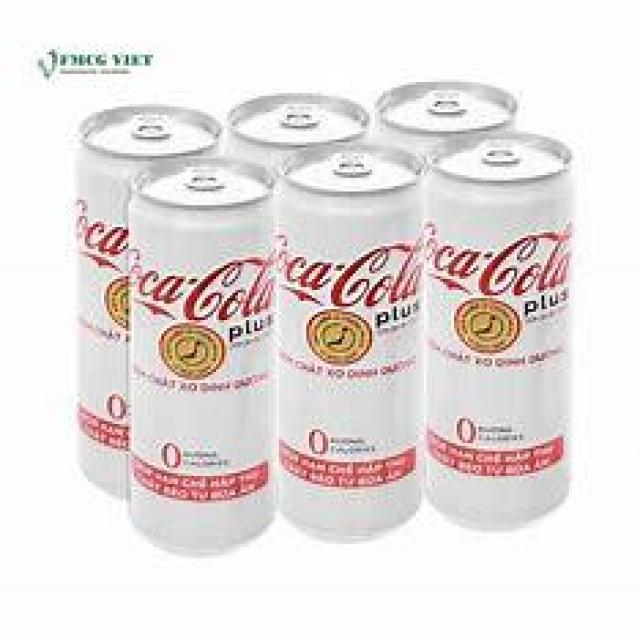can: (265, 145, 427, 547), (416, 131, 576, 536), (126, 153, 278, 559), (76, 104, 222, 499), (375, 80, 519, 168), (230, 93, 370, 150)
pop tab: (282, 101, 320, 132), (134, 110, 173, 140), (430, 88, 470, 114), (186, 167, 226, 192), (334, 150, 372, 176), (481, 140, 519, 164)
